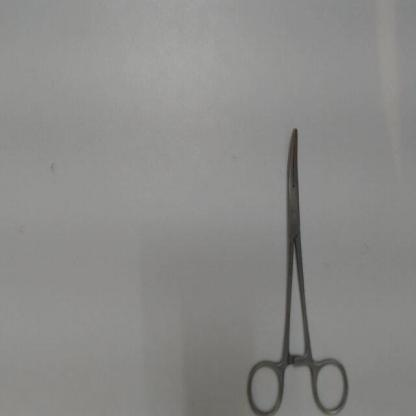Crile Artery Forceps: (242, 121, 357, 416)
